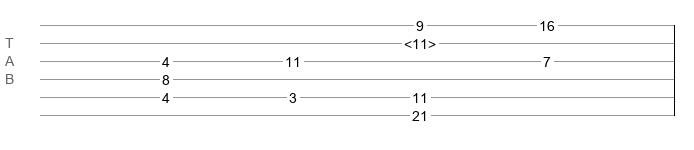11: (285, 54, 301, 64), (412, 90, 428, 100)
16: (539, 18, 555, 28)
21: (412, 108, 428, 118)
3: (289, 90, 297, 100)
4: (162, 54, 170, 64), (162, 90, 170, 100)
7: (543, 54, 551, 64)
8: (162, 72, 170, 82)
9: (416, 18, 424, 28)
harmonic: (404, 36, 436, 46)
